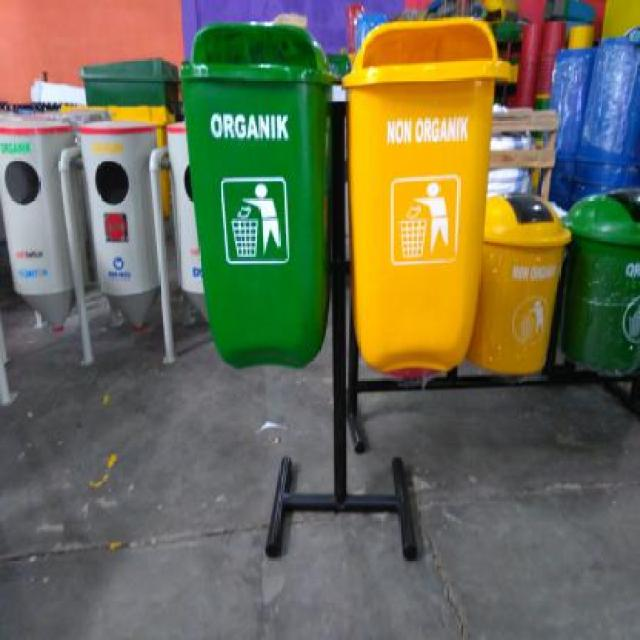garbage container: (172, 20, 337, 385), (341, 11, 494, 384), (472, 188, 578, 384), (563, 180, 640, 405)
